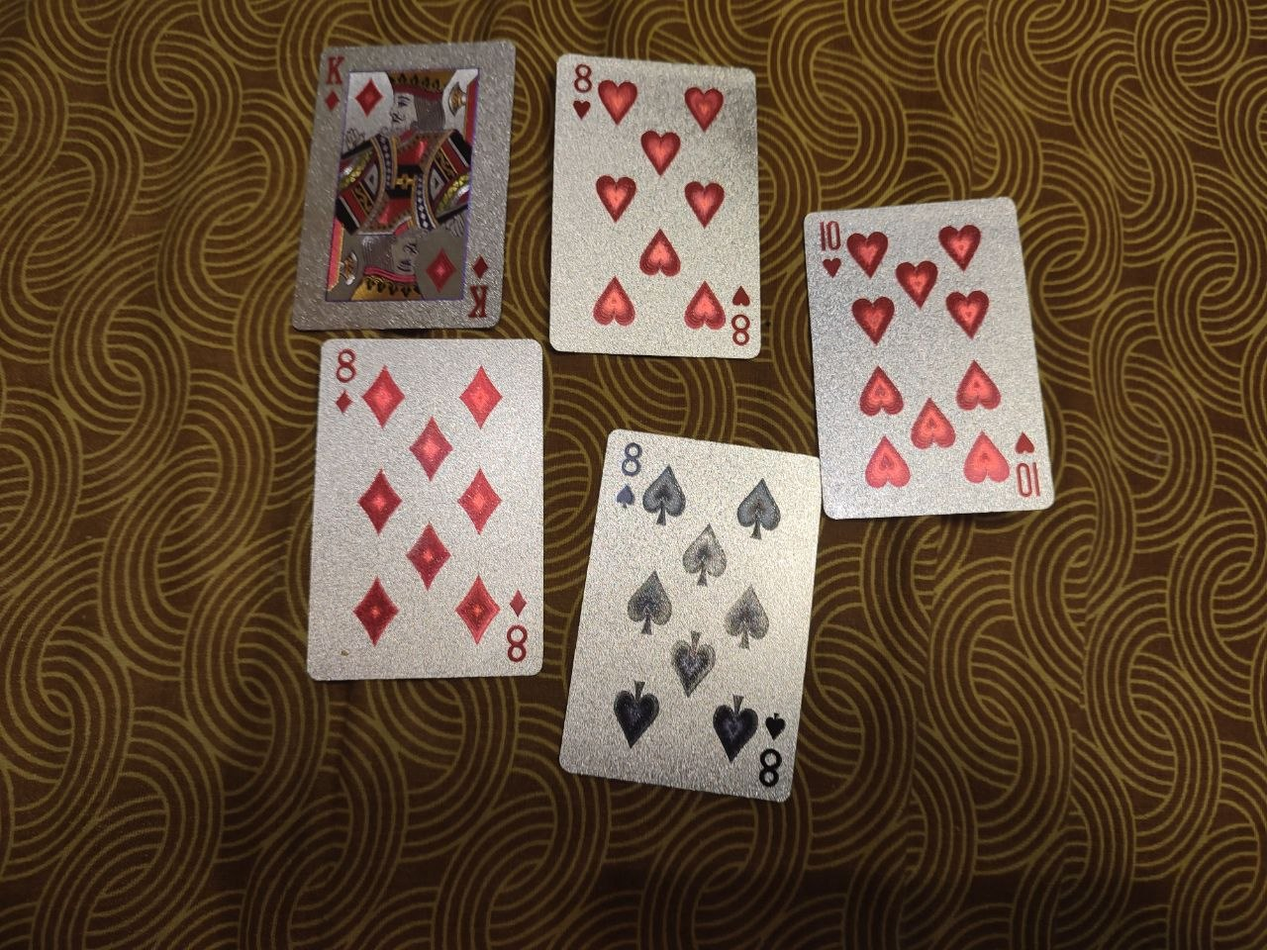10H: (803, 196, 1056, 520)
8D: (305, 336, 547, 682)
8H: (546, 51, 761, 360)
8S: (559, 427, 824, 803)
KD: (288, 37, 520, 332)
